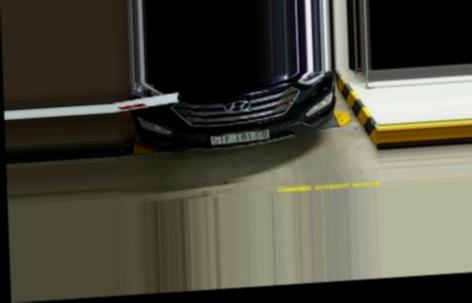License_Plate: (209, 126, 270, 149)
